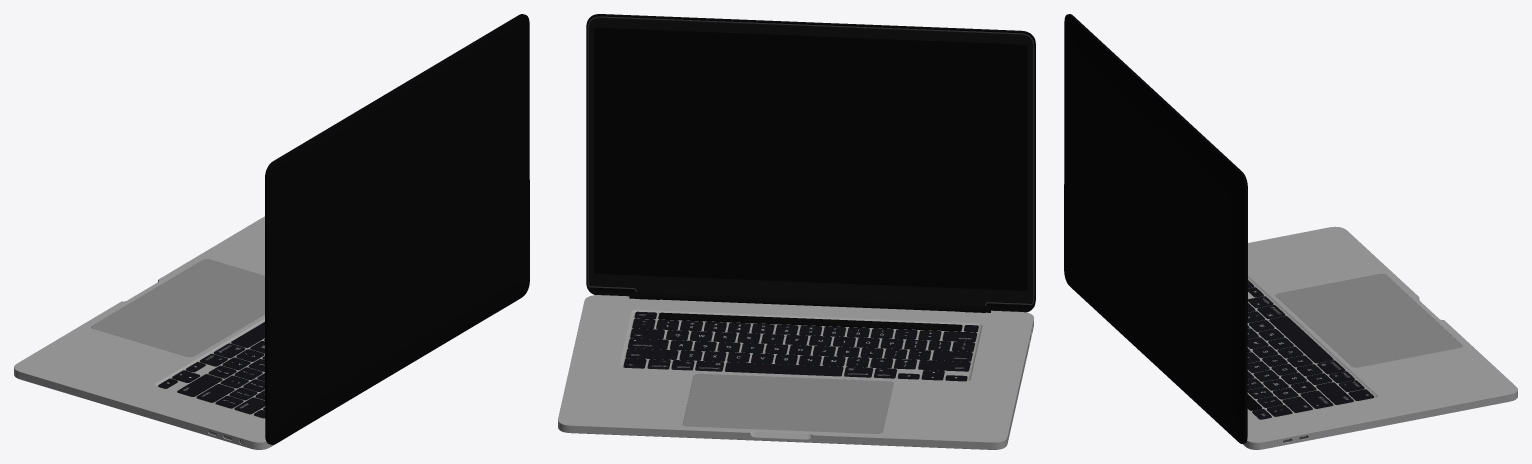
Rendered from laptop.glb.
The picture shows the model from 3 angles, left to right: view 1: azimuth 30°, elevation 25°; view 2: azimuth 150°, elevation 25°; view 3: azimuth 270°, elevation 25°; orthographic projection. The views are drawn at different scales.
Parts seen in each view (by area): view 1: Screen Back, Body, Touchpad, Keyboard; view 2: Screen Back, Body, Keyboard, Black Inset, Touchpad, Touch Panel, Rubber; view 3: Screen Back, Body, Touchpad, Keyboard.
Part boxes in pixels (<box>): Screen Back: <box>265,14,529,444</box>; Body: <box>14,216,512,449</box>; Touchpad: <box>91,259,264,357</box>; Keyboard: <box>158,322,265,418</box>; Screen Back: <box>586,14,1035,312</box>; Body: <box>558,295,1033,449</box>; Keyboard: <box>623,311,978,381</box>; Black Inset: <box>588,17,1032,305</box>; Touchpad: <box>682,373,893,433</box>; Touch Panel: <box>658,312,962,331</box>; Rubber: <box>587,16,1034,306</box>; Screen Back: <box>1064,14,1247,443</box>; Body: <box>1243,226,1517,449</box>; Touchpad: <box>1275,273,1462,367</box>; Keyboard: <box>1247,280,1373,419</box>.
Bounding box in the file's own units: 0.5254 × 0.3146 × 0.4606.
Materials: 8 (1 with a texture image).
